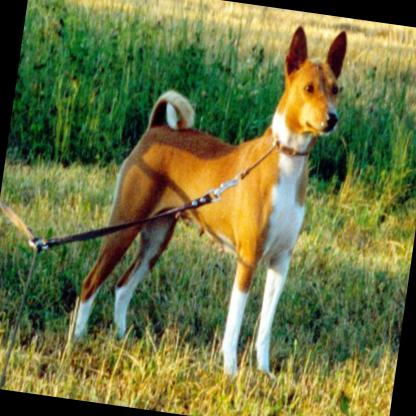basenji: (67, 0, 351, 385)
